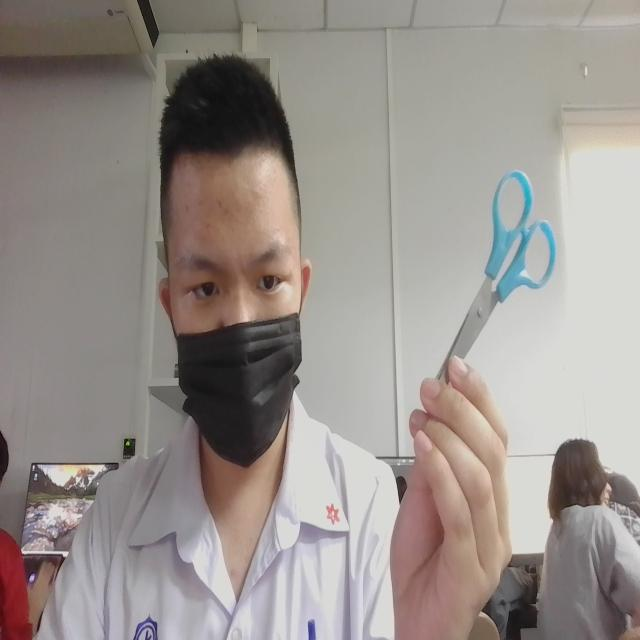scissors: (418, 134, 564, 376)
